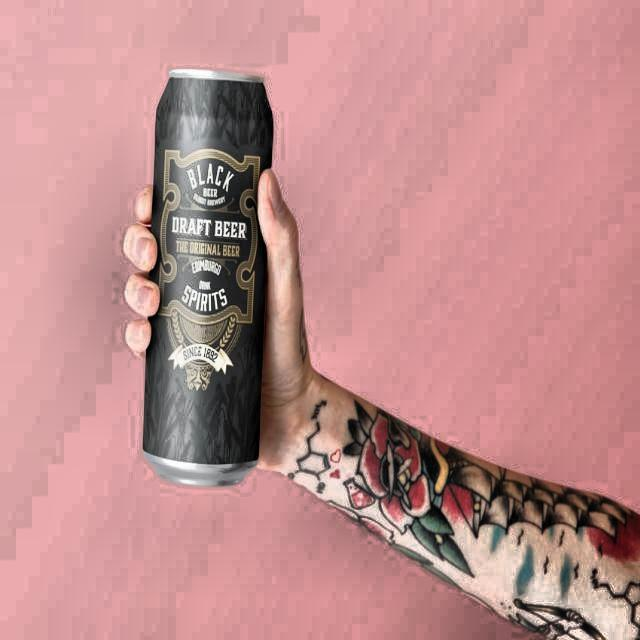can: (136, 59, 279, 503)
